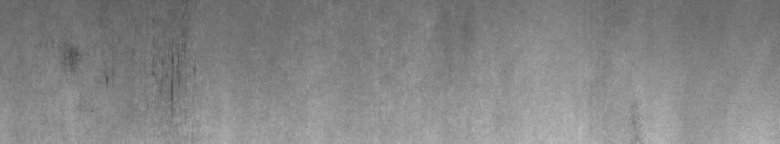ka: (62, 48, 196, 114)
